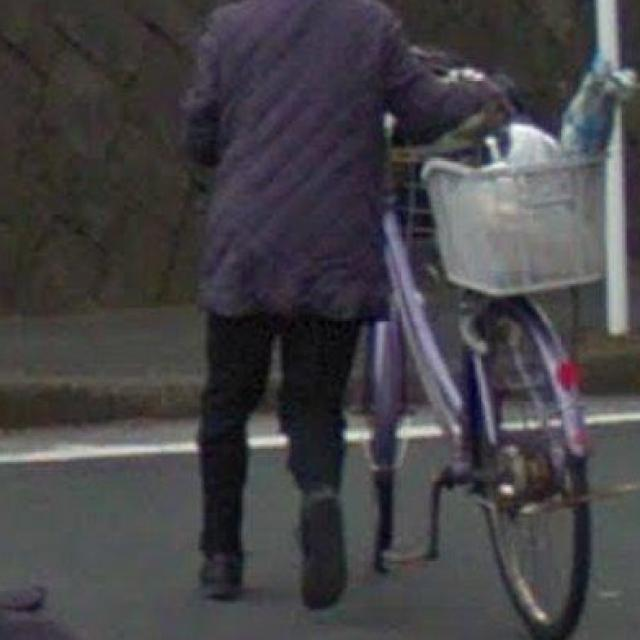bicycle: (293, 58, 638, 640)
